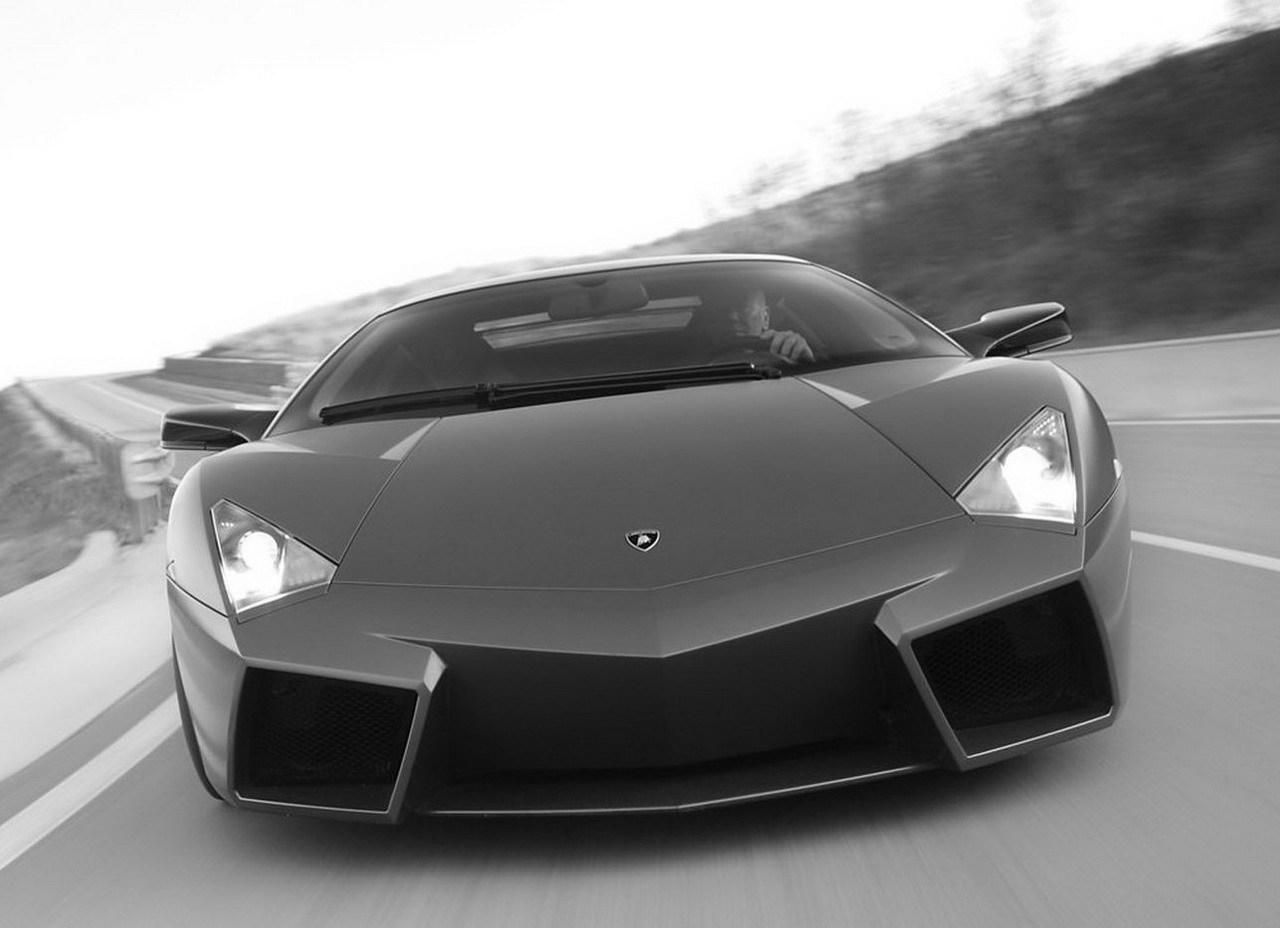car: (159, 254, 1133, 822)
